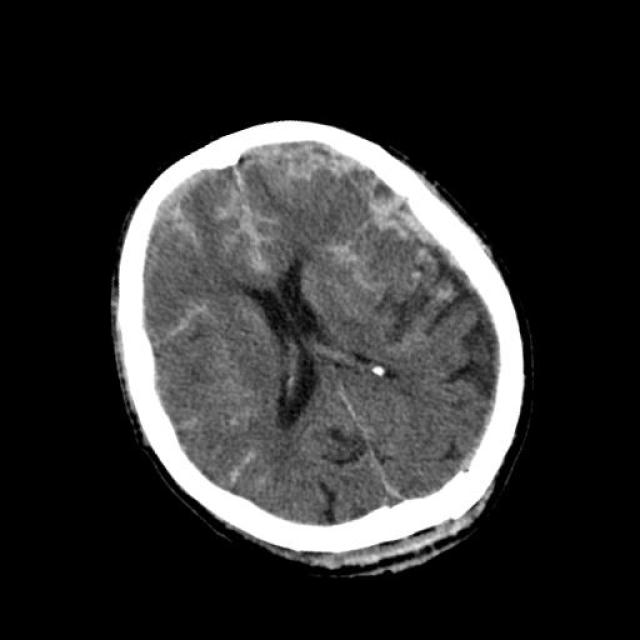Subarachnoid: (247, 100, 386, 212), (206, 190, 293, 270), (136, 290, 223, 349), (216, 449, 272, 493)
Subdural: (104, 152, 228, 242)
